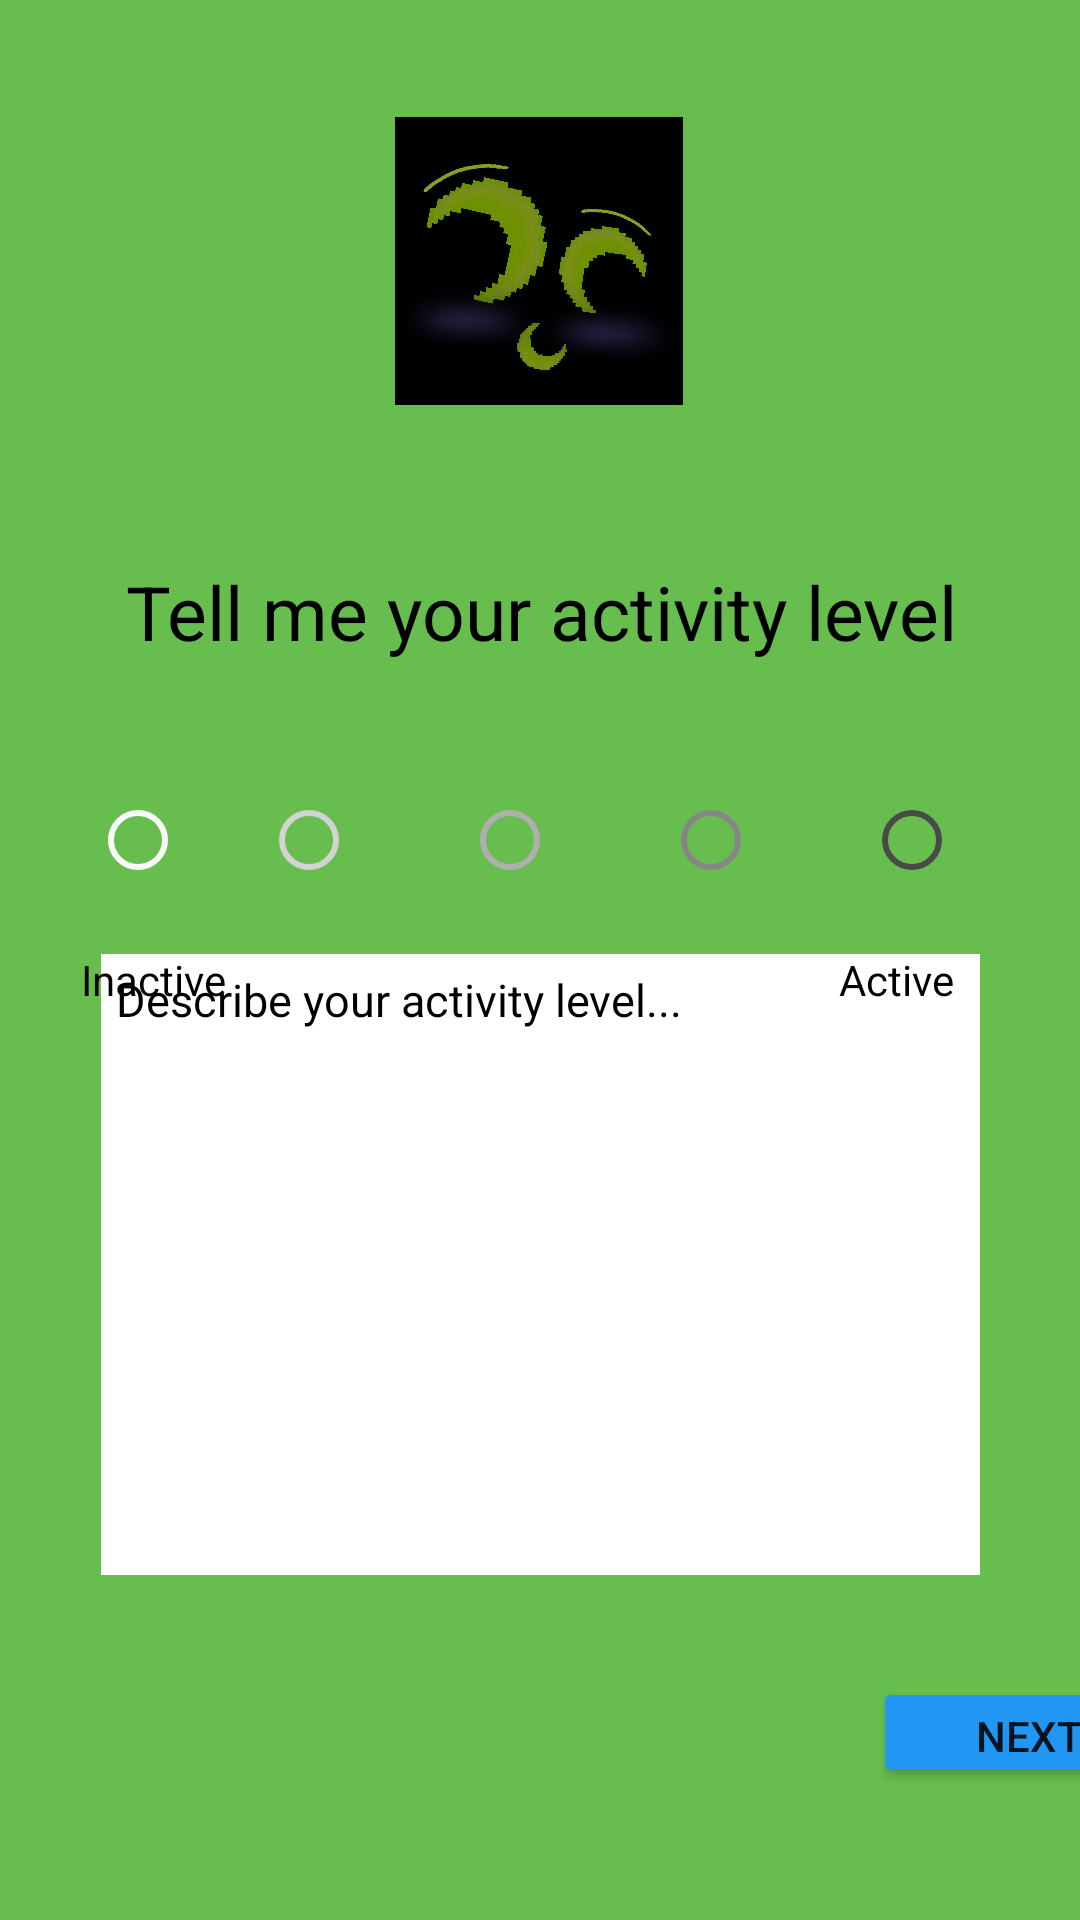

Named icons in this screenshot (1080w x 1920h) and their bounding boxes, (x1, y1, x2, y2):
happy: (395, 117, 683, 405)
